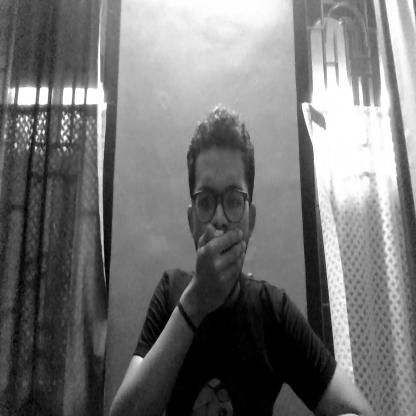Normal: (184, 102, 254, 287)
